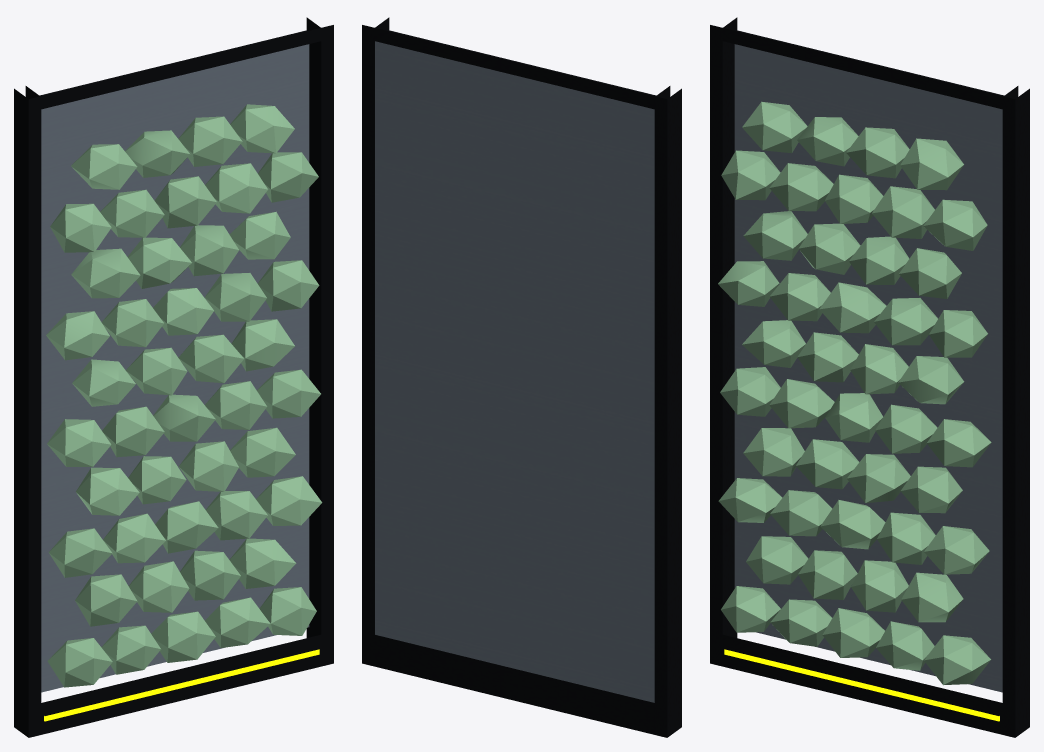
File: tt_gym_green_wall.glb
3 renders of one model, left to right at view 1: azimuth 30°, elevation 25°; view 2: azimuth 150°, elevation 25°; view 3: azimuth 330°, elevation 25°, orthographic.
Parts seen in each view (by area): view 1: Foliage, Mesh_Backer, Frame, Sport_Stripe_LED; view 2: Mesh_Backer, Frame; view 3: Foliage, Mesh_Backer, Frame, Sport_Stripe_LED.
Part boxes in pixels (bbox=[...]): Foliage: bbox=[46, 104, 322, 687]; Mesh_Backer: bbox=[41, 44, 309, 692]; Frame: bbox=[14, 17, 333, 737]; Sport_Stripe_LED: bbox=[44, 649, 319, 721]; Mesh_Backer: bbox=[375, 41, 654, 702]; Frame: bbox=[362, 17, 681, 737]; Foliage: bbox=[718, 101, 991, 685]; Mesh_Backer: bbox=[734, 44, 1002, 692]; Frame: bbox=[710, 17, 1029, 737]; Sport_Stripe_LED: bbox=[724, 649, 999, 721].
Size of what is drawn, in the model's own units: 1.2 by 2.4 by 0.2379.
Materials: 4 (2 with a texture image).
